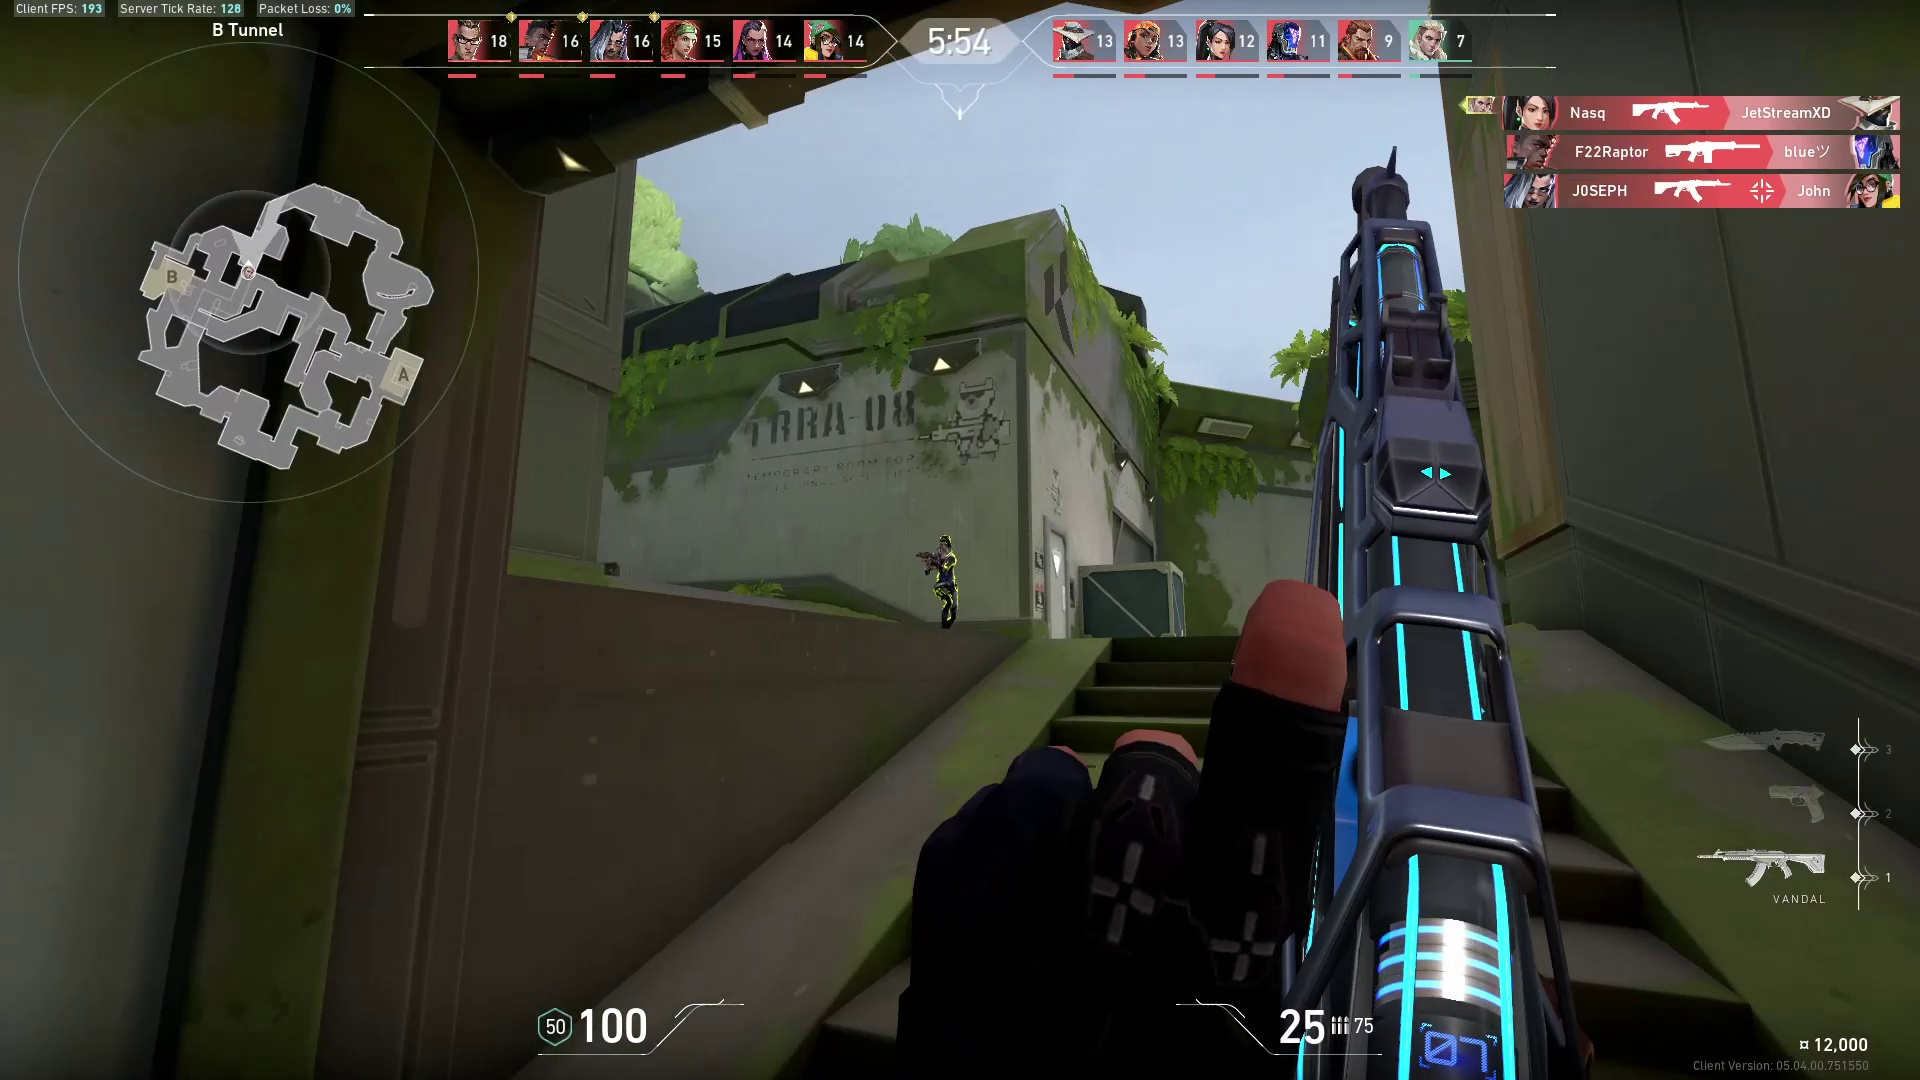enemy_body: (922, 549, 969, 631)
enemy_head: (934, 531, 955, 554)
